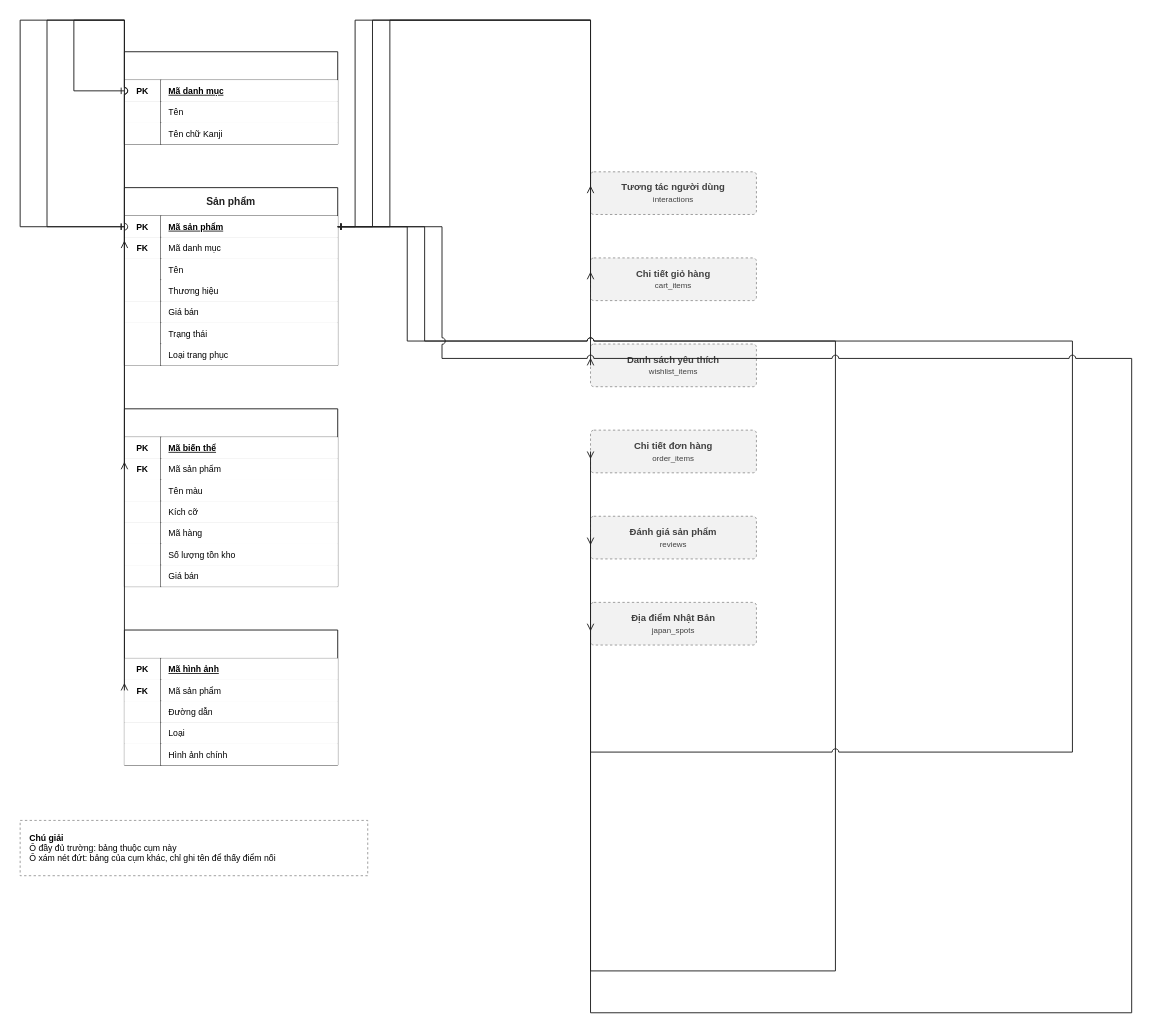
The diagram is 1153 pixels wide and 1034 high, and some of its shapes have lost their labels. The shapes that lost their labels are listed below. From the top down, each one's box as (x1, y1, x2, y2) in pixels, then its label:
(124, 51, 338, 144): Danh mục sản phẩm
(124, 408, 338, 587): Biến thể sản phẩm
(124, 629, 338, 765): Hình ảnh sản phẩm
